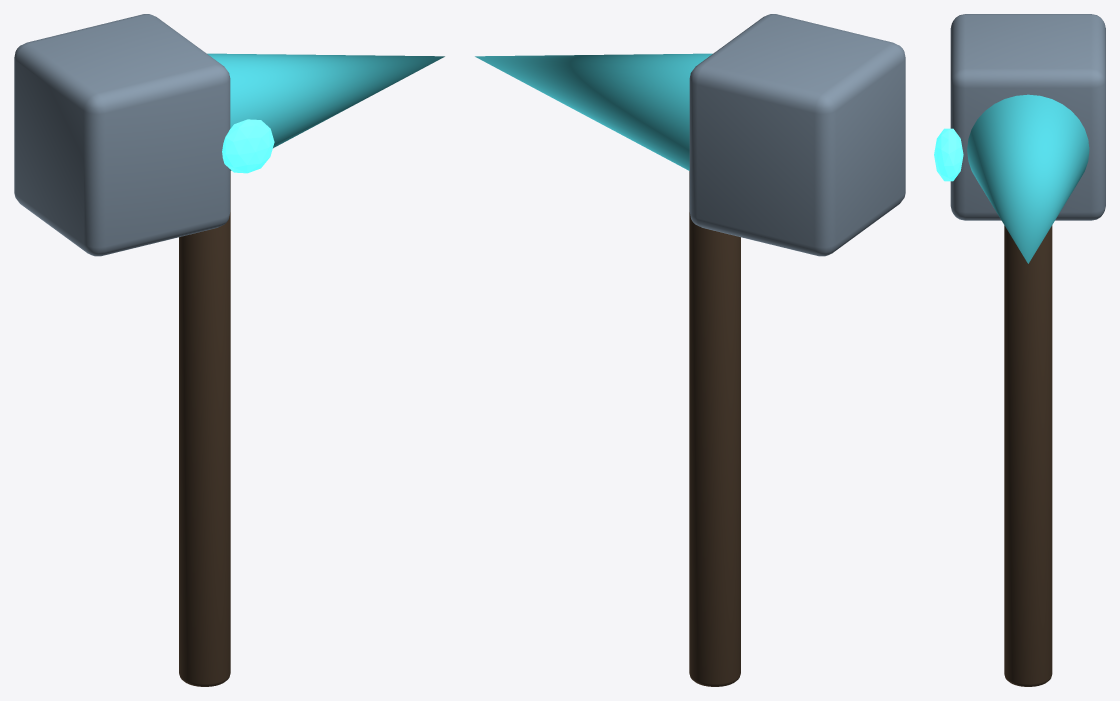
Rendered from hammer_v3.glb.
The picture shows the model from 3 angles, left to right: view 1: azimuth 30°, elevation 25°; view 2: azimuth 150°, elevation 25°; view 3: azimuth 270°, elevation 25°; orthographic projection. The views are drawn at different scales.
Visible parts, largest first — view 1: PICK_HAMMER_FACE_PRIMARY, HAFT_SECONDARY, WAR_PICK_ACCENT, PICK_EYE_EMISSIVE; view 2: PICK_HAMMER_FACE_PRIMARY, HAFT_SECONDARY, WAR_PICK_ACCENT; view 3: HAFT_SECONDARY, PICK_HAMMER_FACE_PRIMARY, WAR_PICK_ACCENT, PICK_EYE_EMISSIVE.
Boxes of the visible parts, box(x1,y1,x2,y2) form: PICK_HAMMER_FACE_PRIMARY: box(14, 14, 230, 256); HAFT_SECONDARY: box(179, 171, 230, 686); WAR_PICK_ACCENT: box(207, 53, 444, 170); PICK_EYE_EMISSIVE: box(222, 119, 274, 173); PICK_HAMMER_FACE_PRIMARY: box(689, 14, 905, 256); HAFT_SECONDARY: box(689, 171, 740, 686); WAR_PICK_ACCENT: box(475, 53, 712, 170); HAFT_SECONDARY: box(1004, 225, 1052, 686); PICK_HAMMER_FACE_PRIMARY: box(950, 14, 1105, 220); WAR_PICK_ACCENT: box(967, 94, 1089, 263); PICK_EYE_EMISSIVE: box(934, 128, 963, 181).
Bounding box in the file's own units: 2.3 × 3.57 × 0.93.
